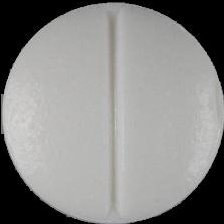0054-0017: (0, 0, 224, 224)
